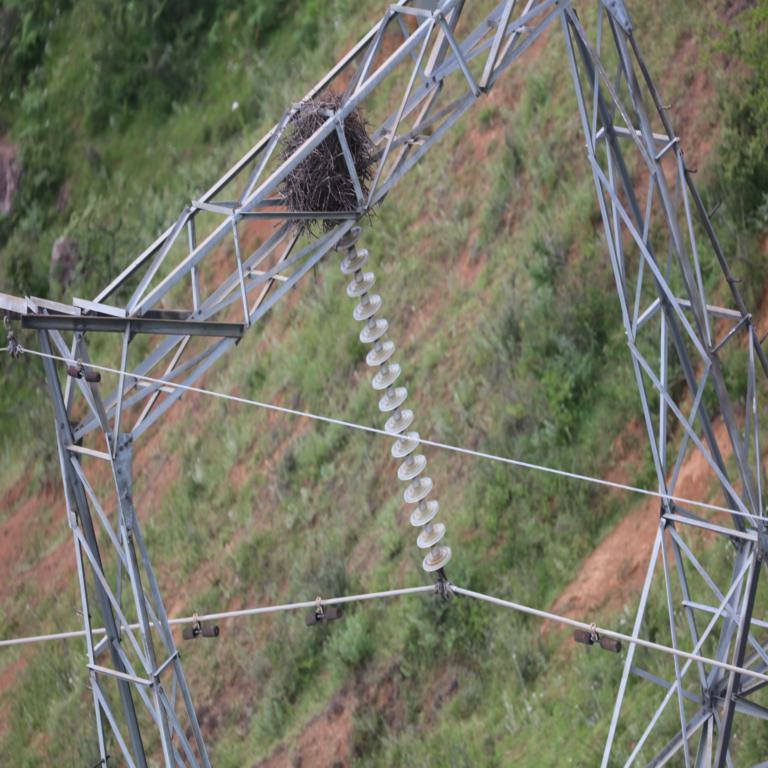nest: (286, 105, 378, 229)
